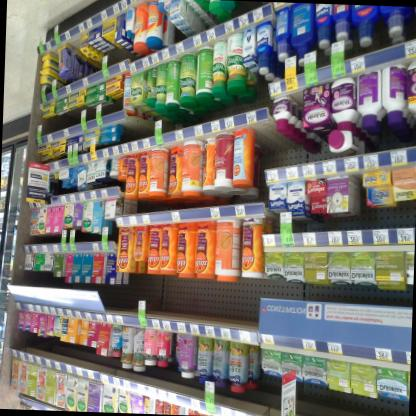empty_space: (247, 118, 295, 170), (112, 117, 150, 138), (348, 170, 363, 221), (65, 32, 81, 57), (48, 46, 57, 59)
